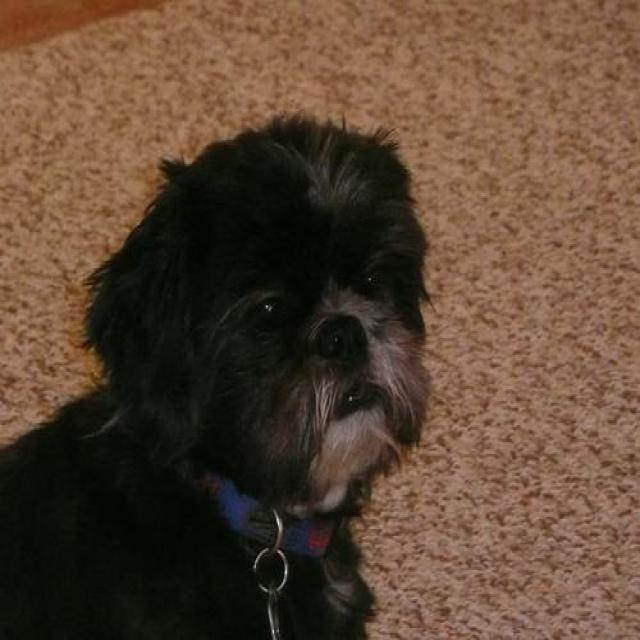shih_tzu: (1, 116, 433, 638)
